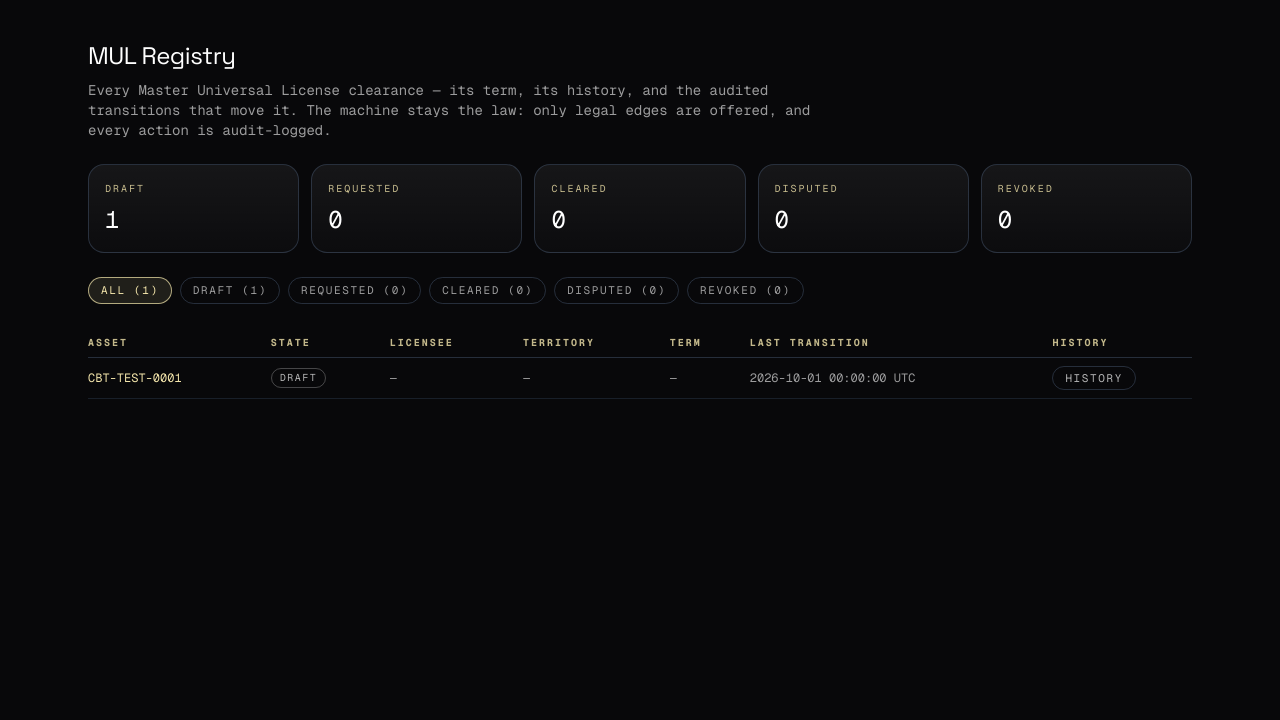
MulRegistry › opens the history drawer, reads the single-asset GET, and replays oldest-first
Click the button "History". click: (1094, 378)
box: [1052, 366, 1136, 390]
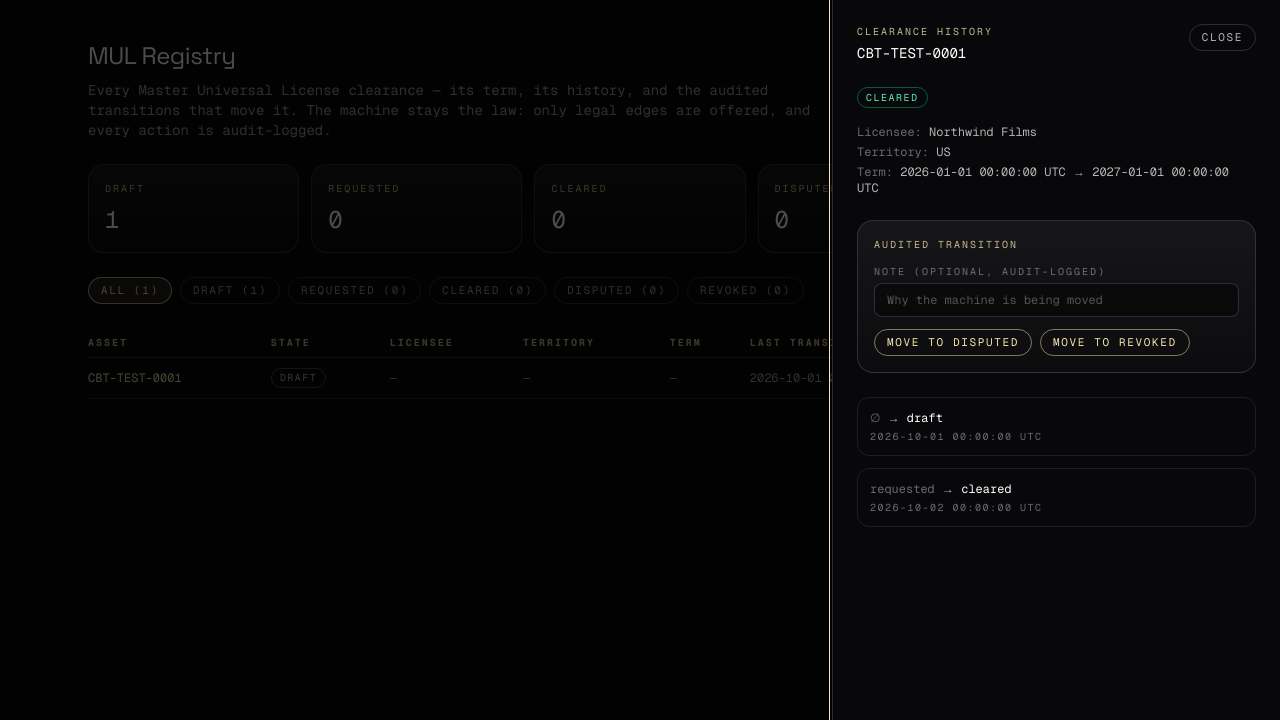
Expected: the number of list items is 2, [857, 396, 1256, 456]; [857, 468, 1256, 527]
Expected: the list item "∅ → draft 2026-10-01 00:00:00 UTC" is shown, [857, 396, 1256, 456]
Expected: the list item "requested → cleared 2026-10-02 00:00:00 UTC" is shown, [857, 468, 1256, 527]
